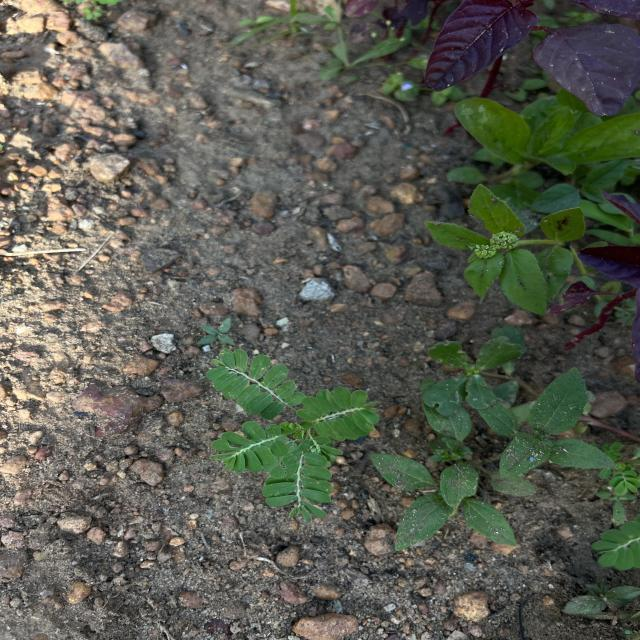Phyllanthus niruri: (202, 348, 304, 419), (258, 443, 334, 524), (294, 384, 382, 444), (204, 419, 294, 477)
